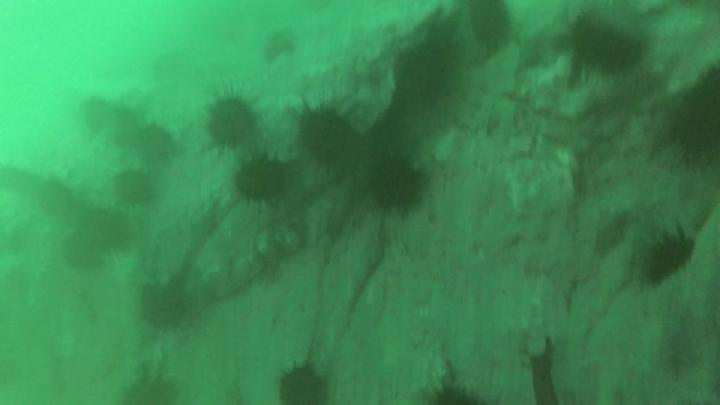starfish: (574, 17, 642, 75), (298, 111, 348, 162), (370, 161, 420, 212), (207, 99, 257, 147), (232, 161, 289, 201), (647, 237, 693, 284), (140, 284, 187, 329), (468, 3, 512, 46), (280, 370, 327, 405), (85, 210, 122, 249), (42, 180, 75, 222), (61, 234, 100, 267), (115, 170, 152, 204), (124, 379, 169, 405), (115, 109, 139, 153), (85, 98, 111, 134), (141, 129, 174, 156)
